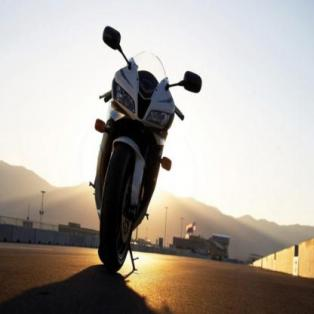Motocicleta: (82, 16, 204, 278)
